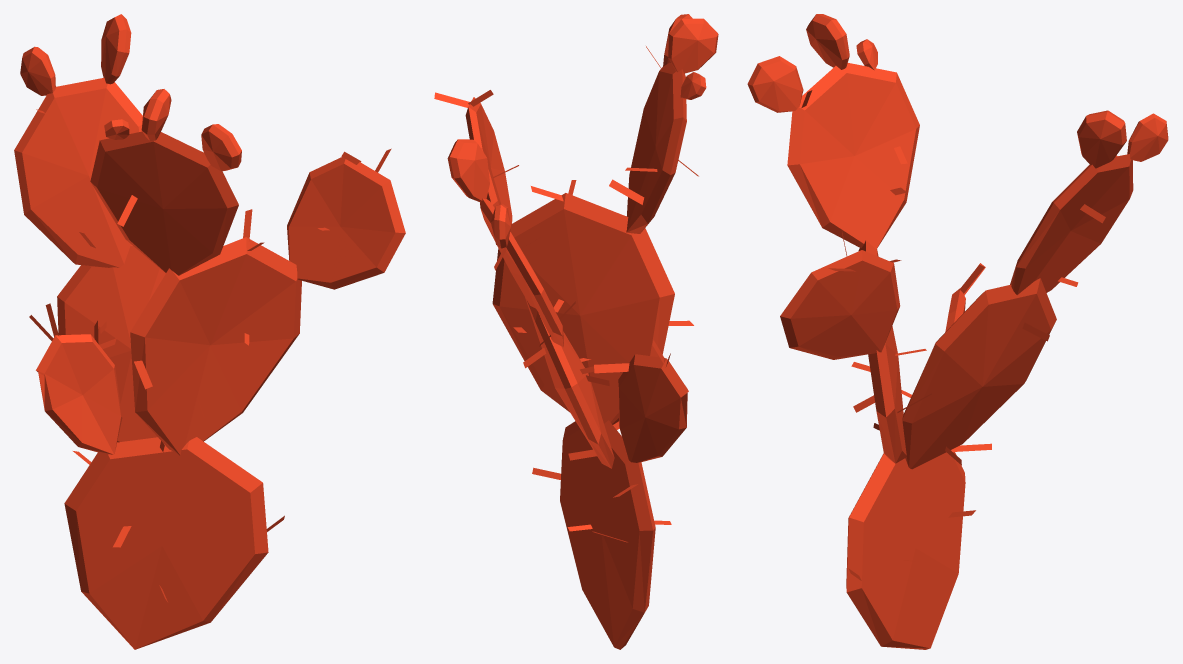
The model's file is SM_Succulent_Opuntia_B.fbx.
3 renders of one model, left to right at view 1: azimuth 30°, elevation 25°; view 2: azimuth 150°, elevation 25°; view 3: azimuth 270°, elevation 25°, orthographic. The views are drawn at different scales.
Parts seen in each view (by area): view 1: SM_Succulent_Opuntia_B; view 2: SM_Succulent_Opuntia_B; view 3: SM_Succulent_Opuntia_B.
Boxes of the visible parts, left/top/right/bottom form: SM_Succulent_Opuntia_B: left=14, top=14, right=405, bottom=649; SM_Succulent_Opuntia_B: left=434, top=14, right=718, bottom=649; SM_Succulent_Opuntia_B: left=747, top=14, right=1168, bottom=649.
Size of the model in its own units: 0.5572 by 1.05 by 0.6424.
